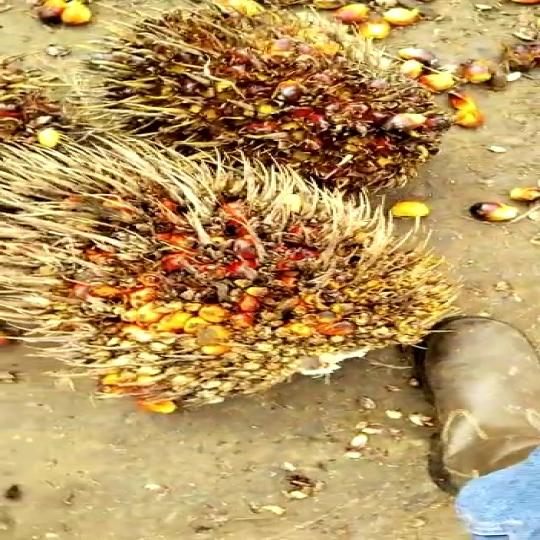terlalu masak: (0, 138, 493, 410), (102, 2, 480, 191)
